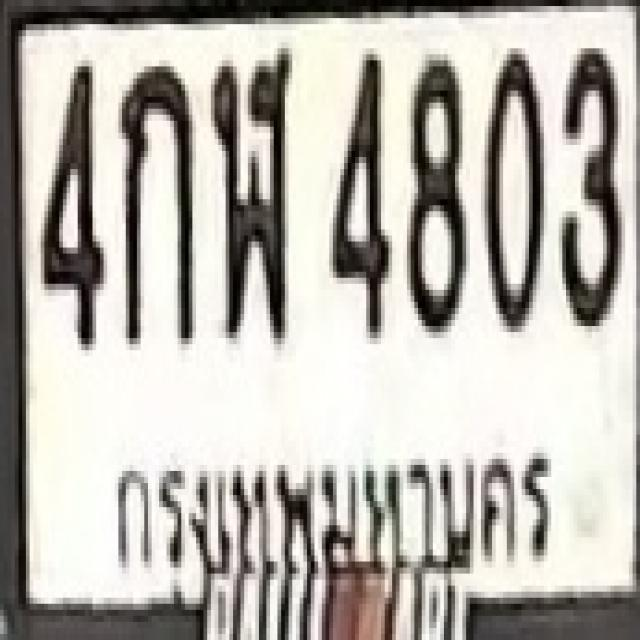-: (209, 45, 290, 335), (119, 61, 192, 344)
0: (481, 48, 540, 326)
3: (558, 42, 618, 320)
4: (37, 54, 100, 344), (328, 45, 390, 335)
8: (403, 51, 462, 329)
BKK: (100, 413, 564, 594)
